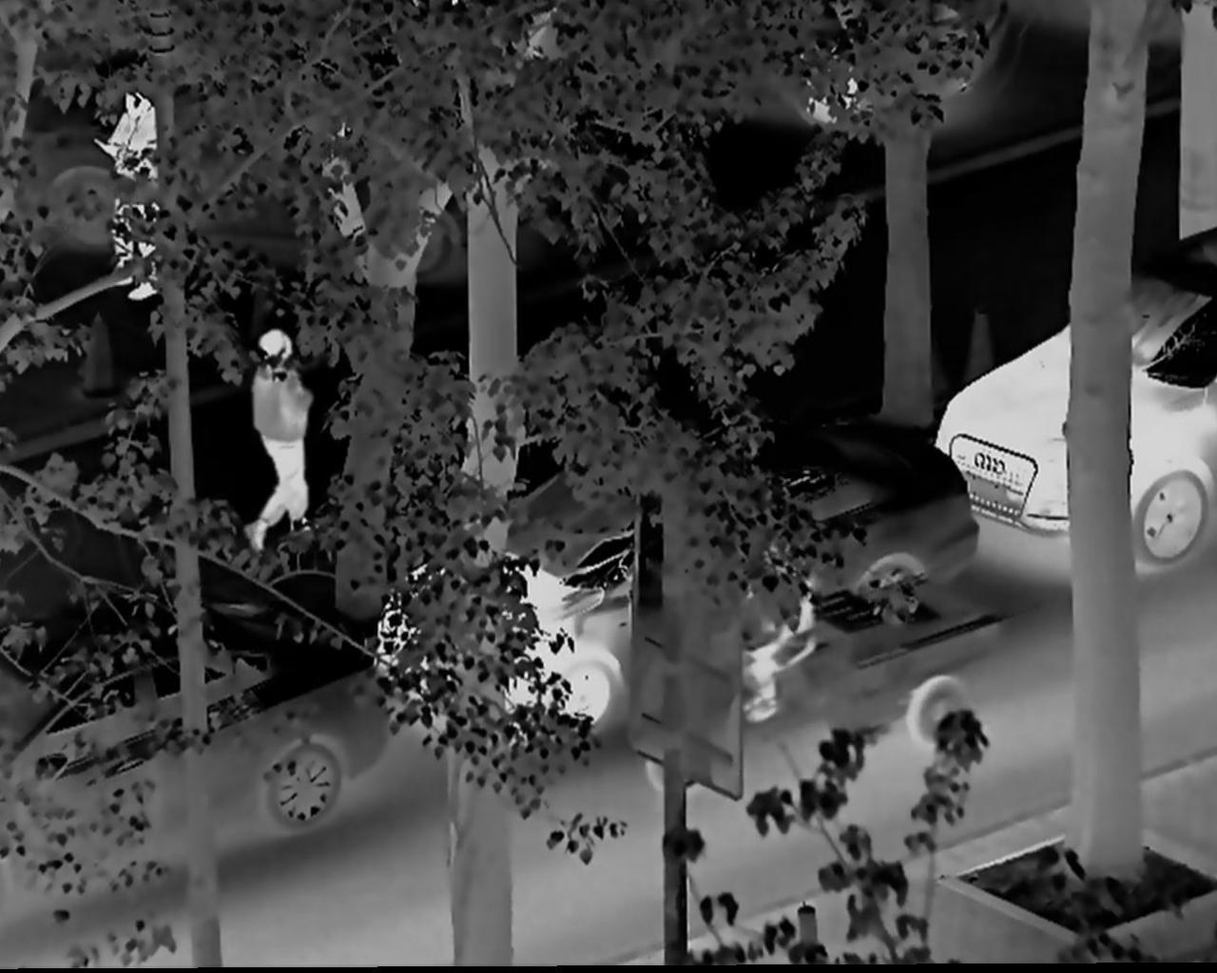person: (234, 330, 324, 551), (95, 86, 164, 310)
